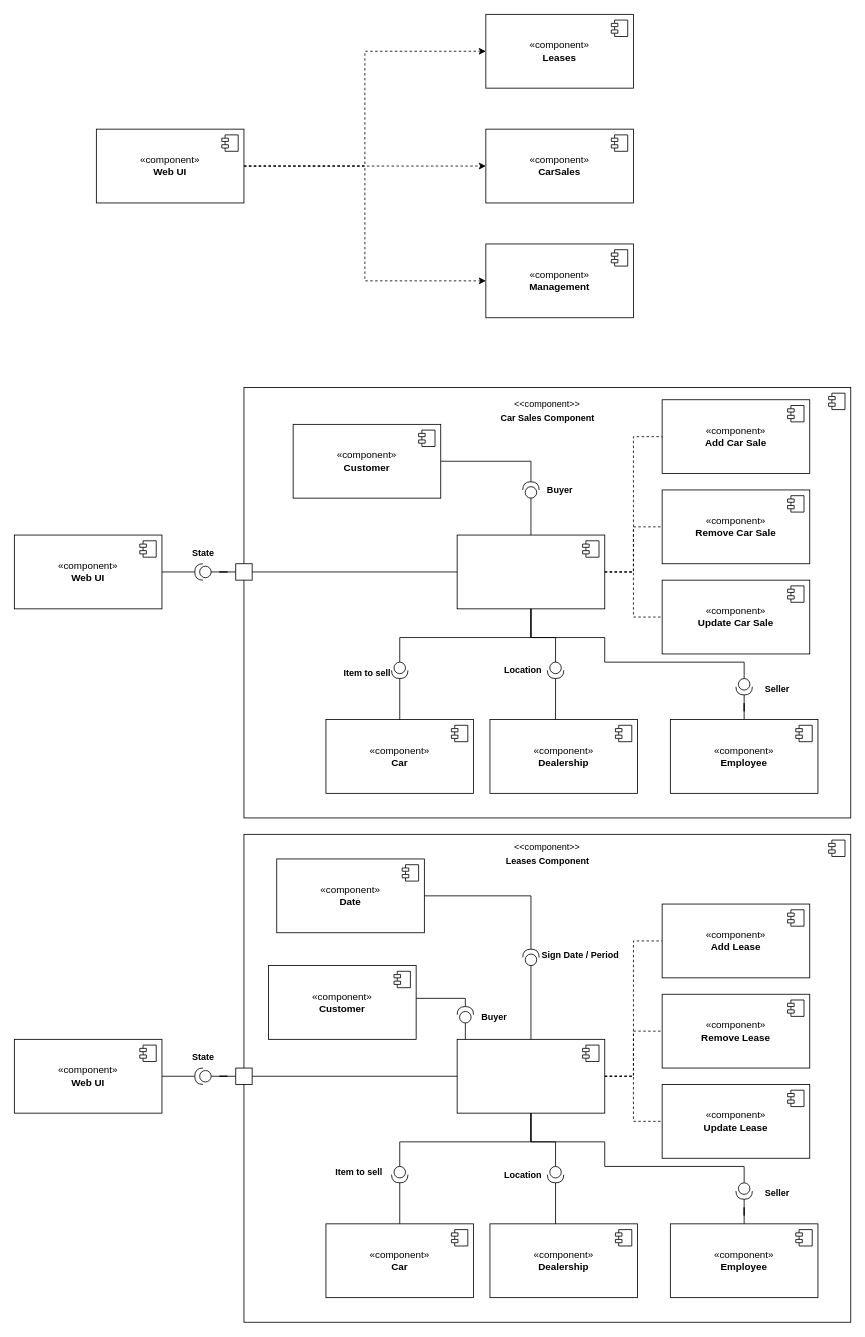
Image size: 865x1337. Some labels were removed from this diagram. Here are the shapes that lost their labels. From the top down, the centre of each, then its label:
(530,571): «component» Car Sale Web Form
(530,1076): «component» Lease Web Form
